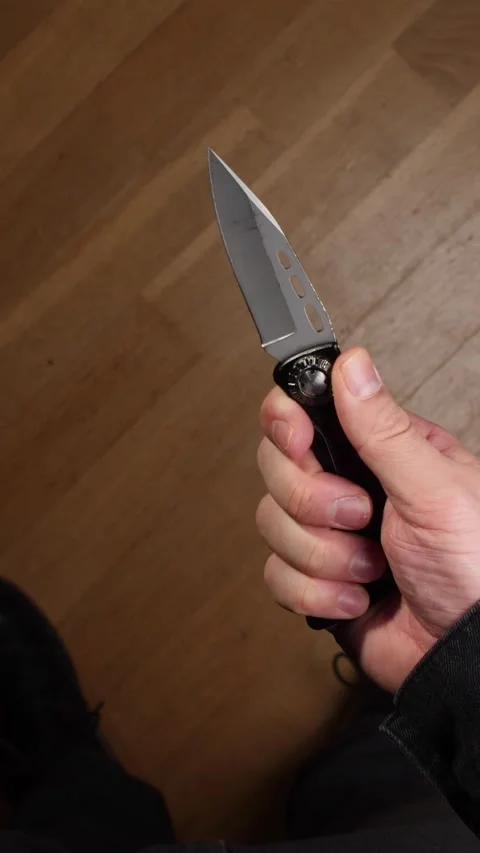Knife: (253, 342, 480, 853), (202, 139, 400, 620), (250, 340, 480, 690)
